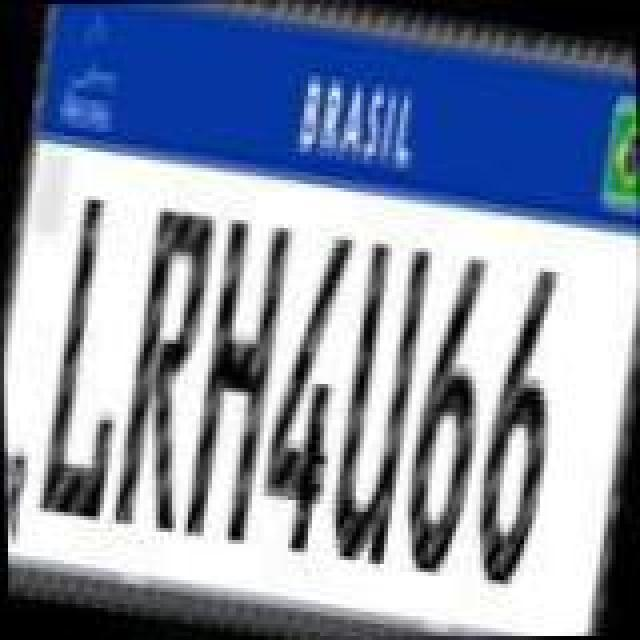4: (246, 218, 370, 558)
6: (386, 244, 510, 584), (454, 258, 578, 598)
H: (168, 204, 300, 552)
L: (28, 190, 152, 530)
R: (98, 194, 226, 538)
U: (314, 234, 438, 574)
